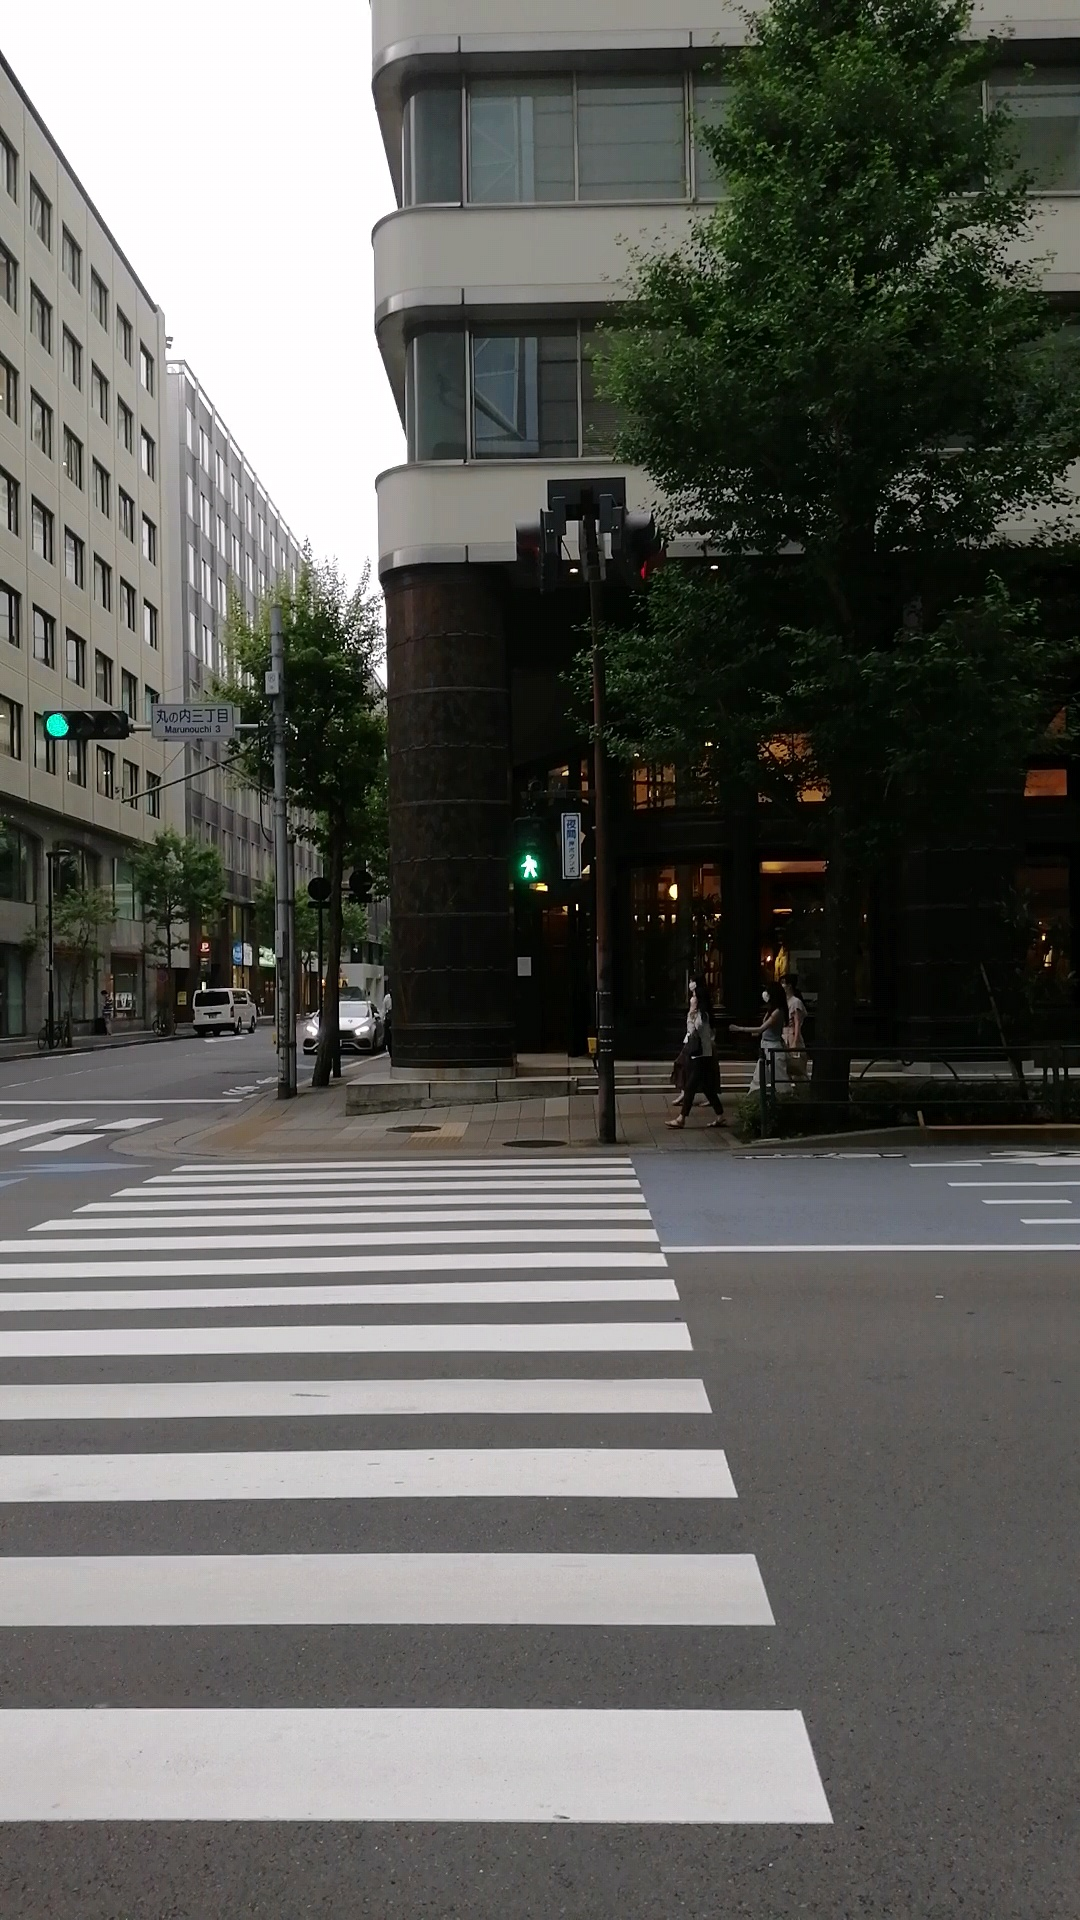green: (512, 819, 549, 884)
